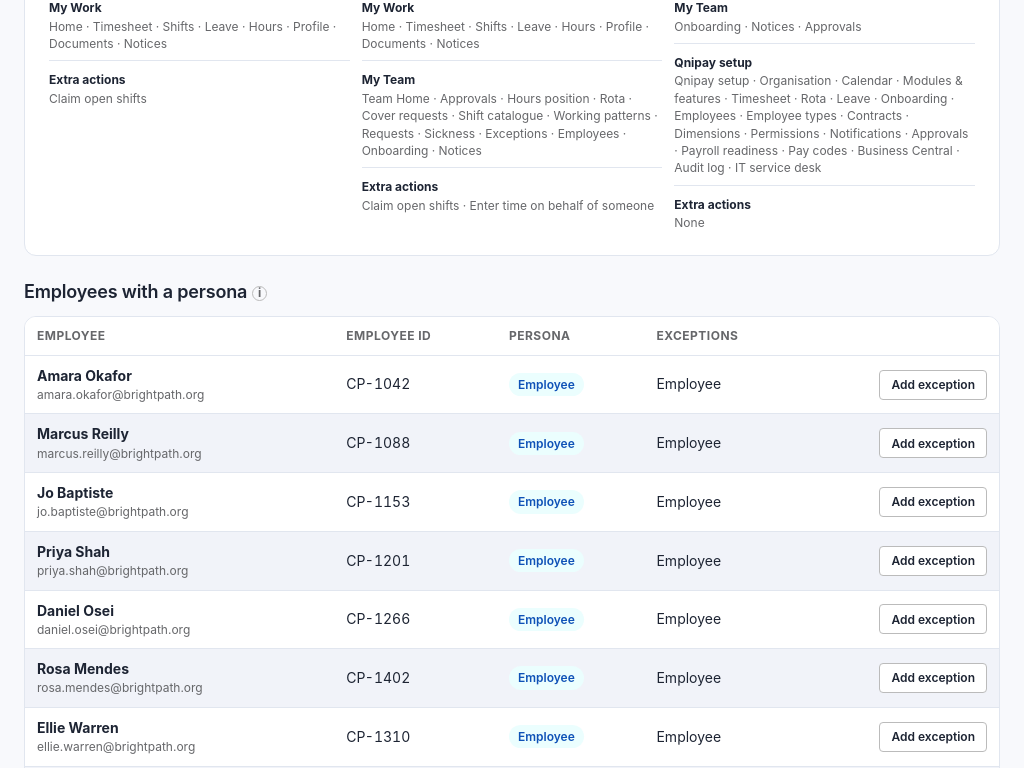
Test: a failed exception grant shows the refusal and leaves the account unchanged
The width and height of the screenshot is (1024, 768).
(page scrolled)
Click the button "Add exception" in the row of "Amara Okafor" at (933, 385), box [879,370,987,400]
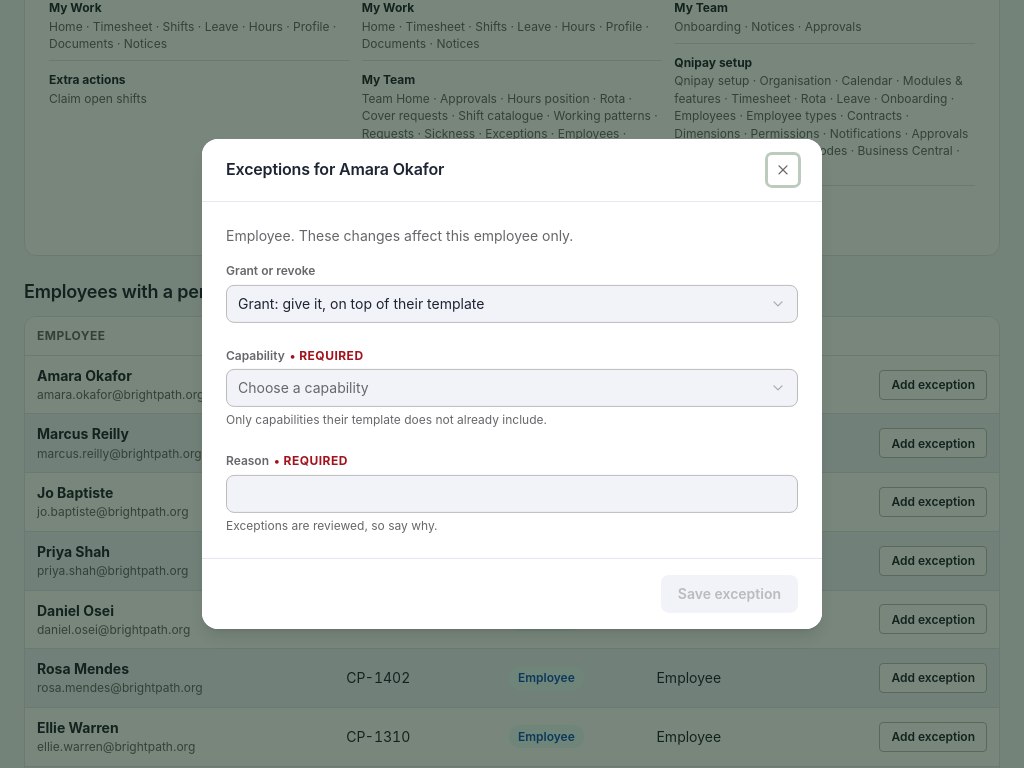
Click the dropdown with test id "access-exception-cap" at (303, 387), box [226,369,798,407]
(page scrolled)
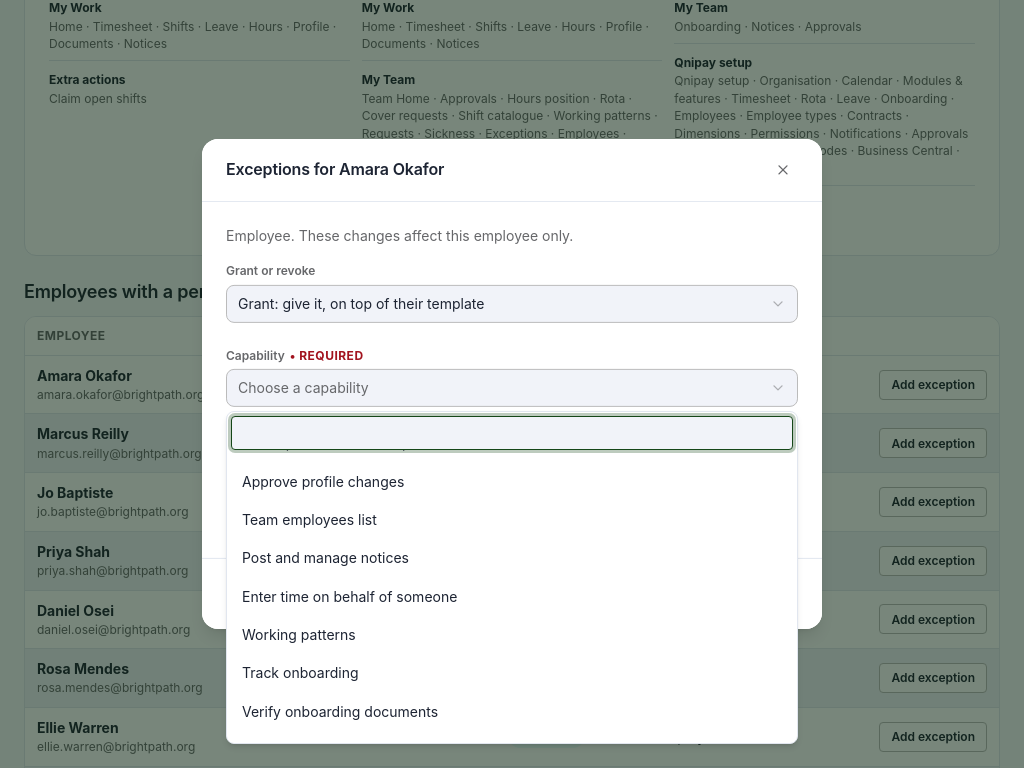
Click the option "Enter time on behalf of someone" at (350, 596), box [242,588,457,605]
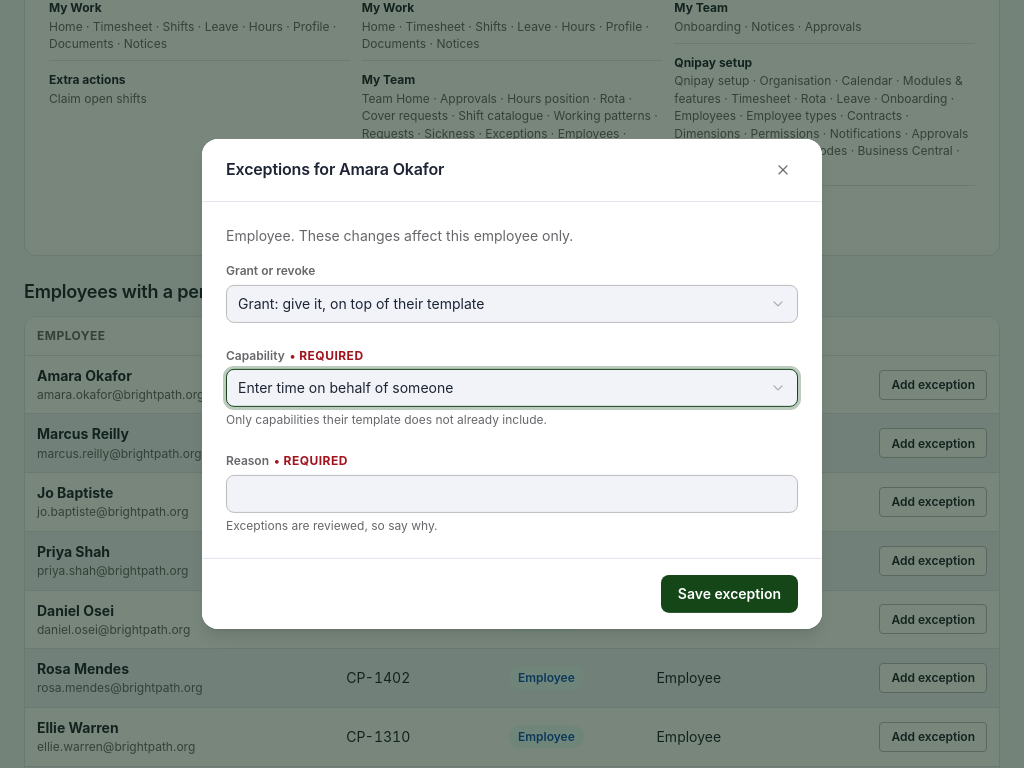
Type "Covers the rota lead on Fridays" into the field with test id "access-exception-reason" at (512, 494), box [226,475,798,513]
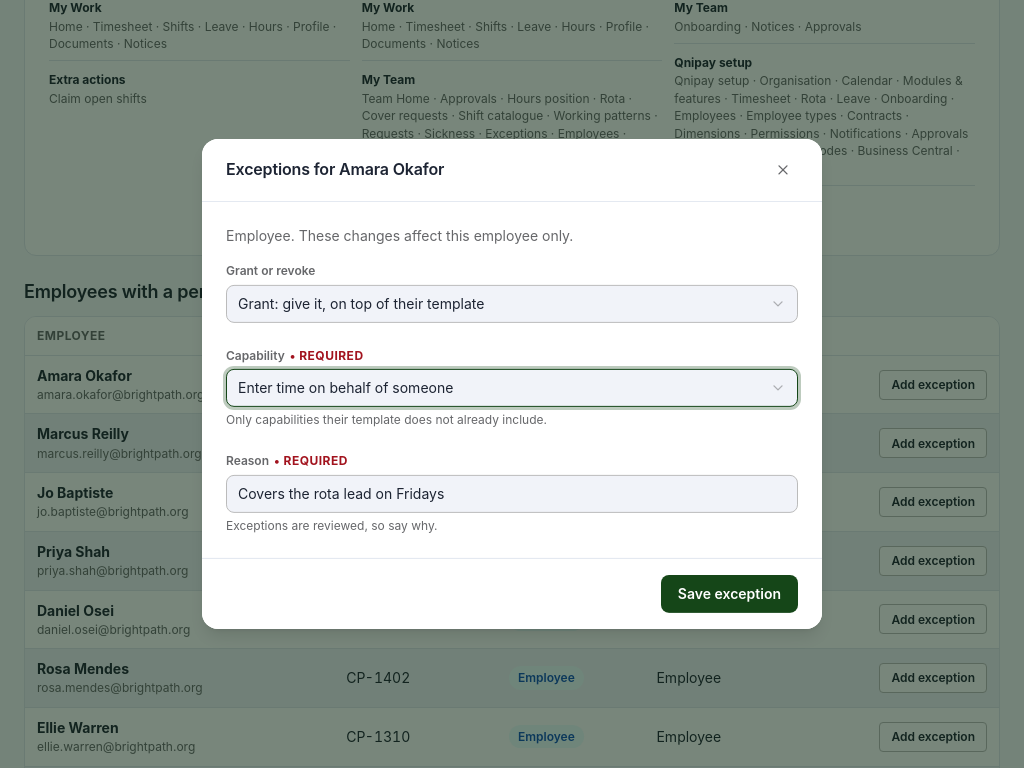
Click the button with test id "access-exception-save" at (729, 594), box [661,575,798,613]
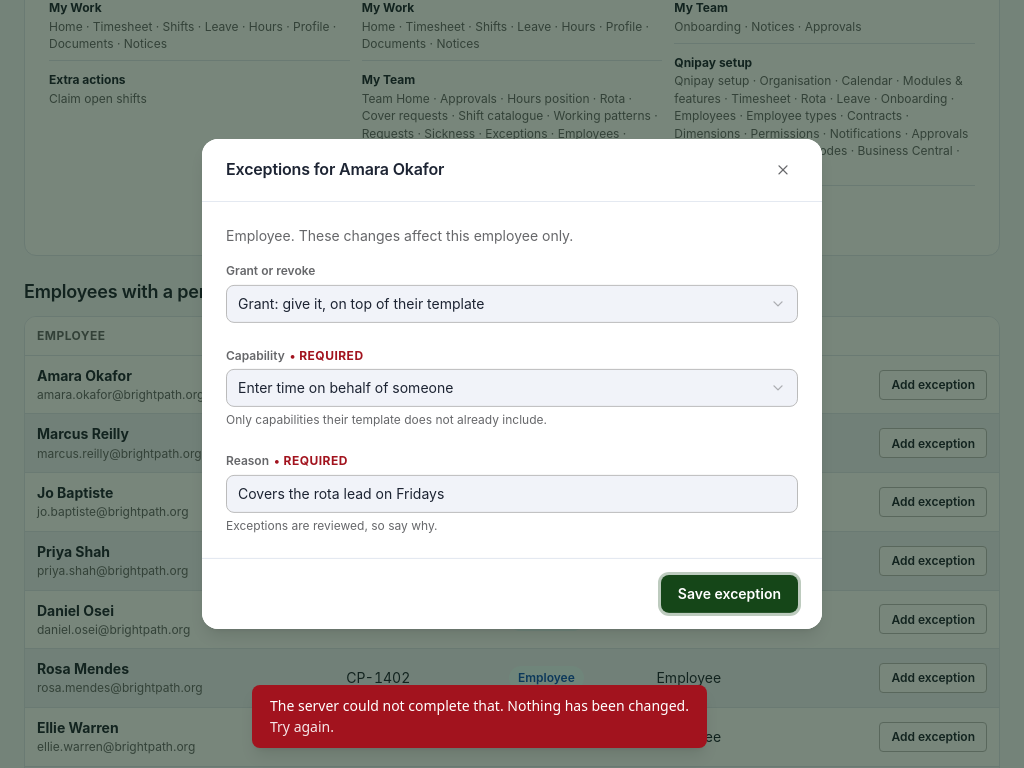
Now the message with test id "toast-error" shows "Nothing has been changed", box [270,696,689,715]
